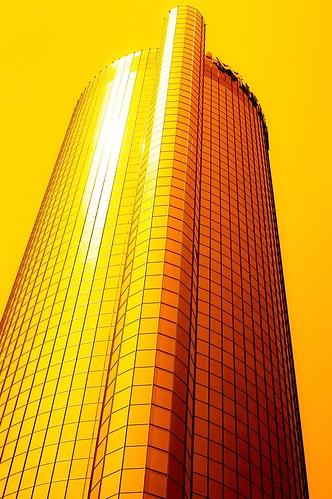building: (3, 1, 316, 499)
